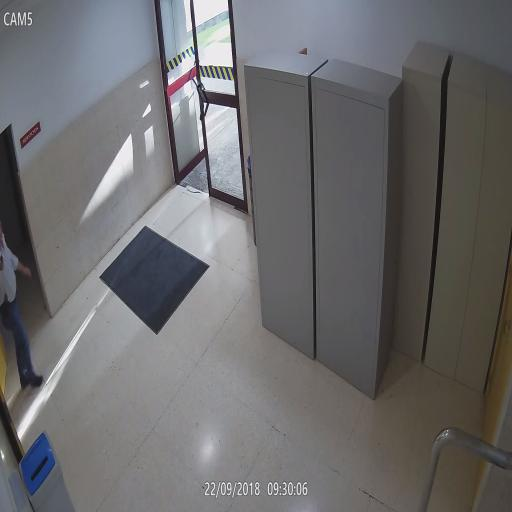Handgun: (0, 254, 5, 270)
